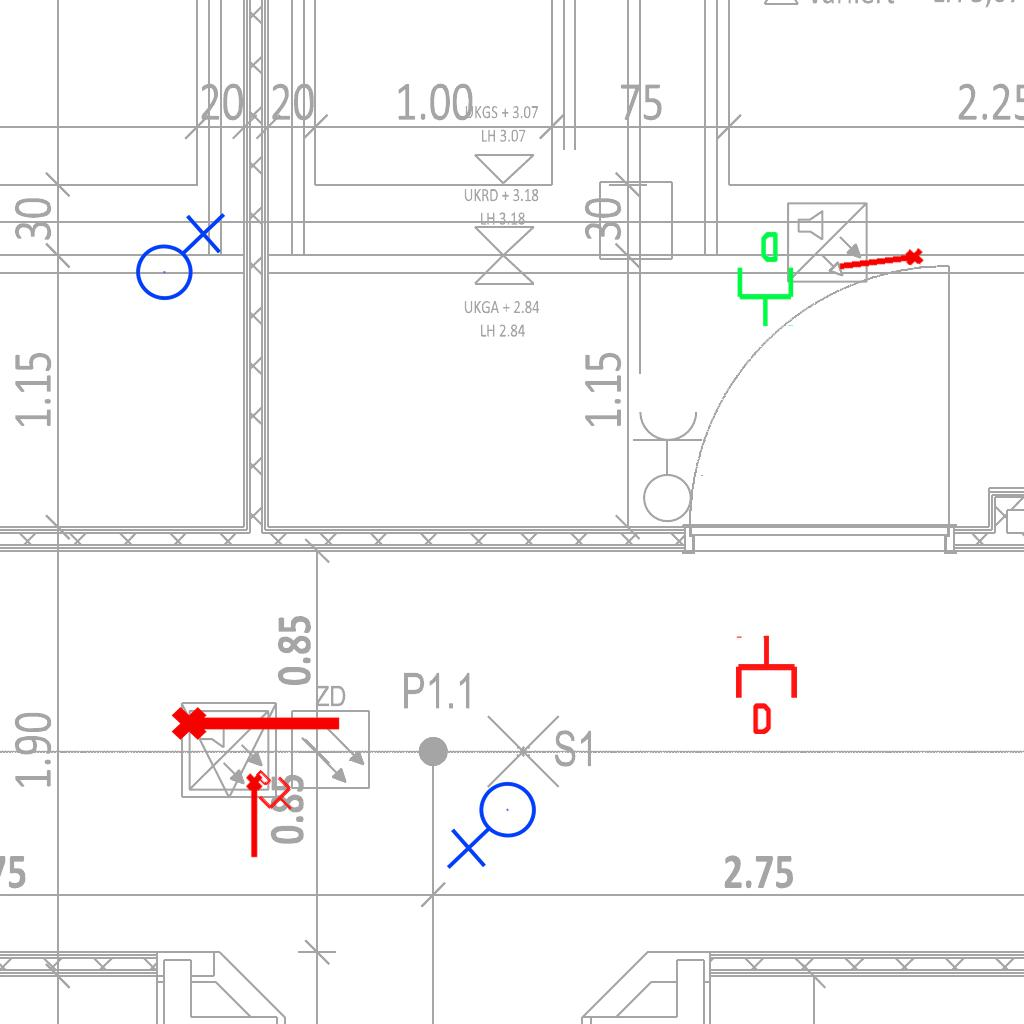ASR_Ansaugoeffnung: (169, 698, 345, 744), (835, 245, 927, 280), (244, 772, 267, 860)
Datenanschluss_einfach: (732, 634, 801, 734), (729, 229, 798, 329), (244, 762, 304, 822)
Elektroanschluss_allgemein_230V_Geraeteanschlussdose_230V: (446, 780, 545, 874), (127, 208, 226, 302)
